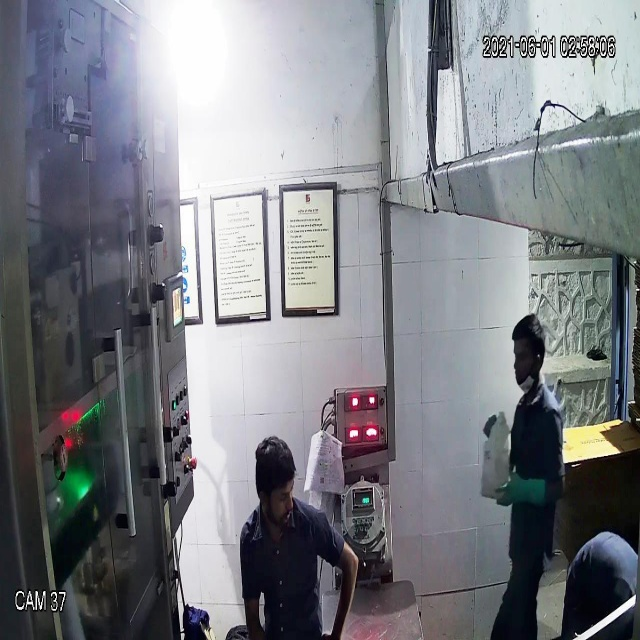Sin_gafas: (255, 483, 296, 514)
